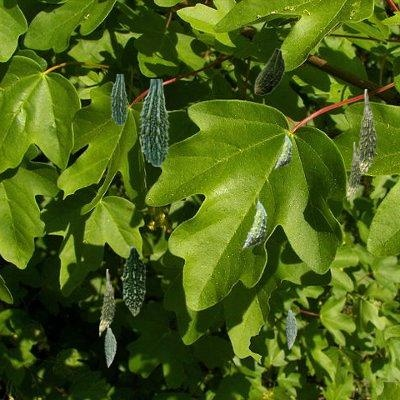ampalaya: (139, 79, 168, 165), (122, 245, 146, 315), (357, 89, 376, 175), (254, 48, 284, 94), (242, 194, 266, 248), (99, 269, 114, 335), (110, 74, 126, 124), (347, 142, 360, 200), (274, 130, 291, 168), (285, 306, 296, 348), (104, 327, 115, 366)
